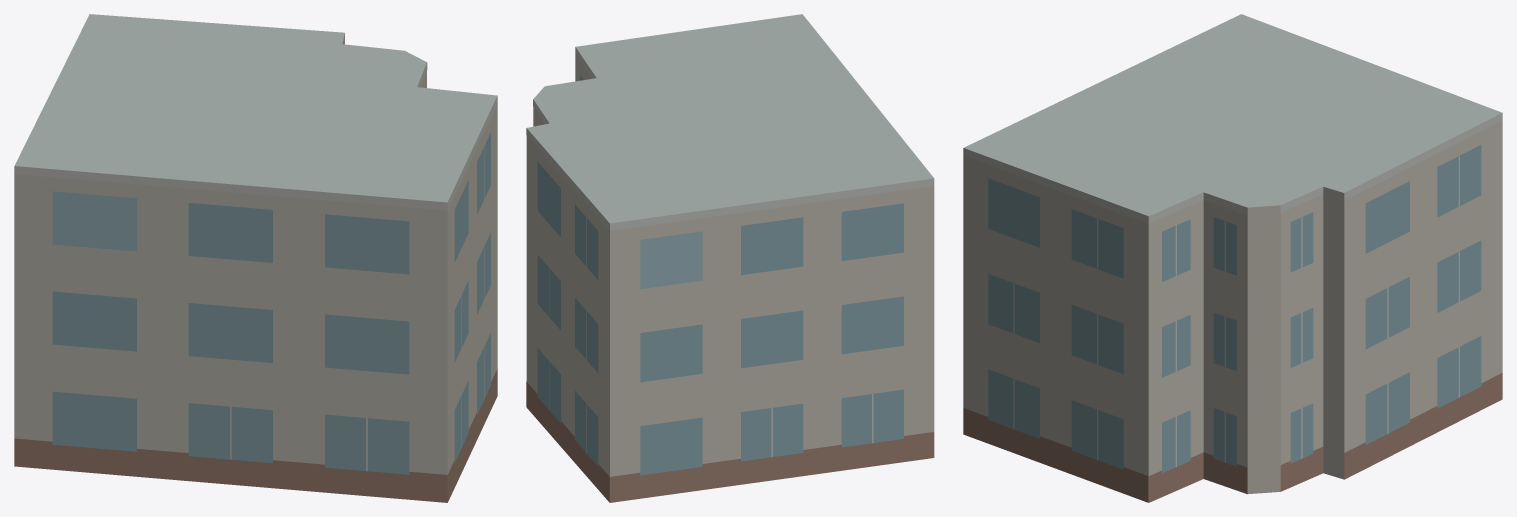
File: survey-upis-32575915.glb
3 renders of one model, left to right at view 1: azimuth 30°, elevation 25°; view 2: azimuth 150°, elevation 25°; view 3: azimuth 270°, elevation 25°, orthographic. The views are drawn at different scales.
Visible parts, largest first — view 1: survey-upis-32575915.tmp; view 2: survey-upis-32575915.tmp; view 3: survey-upis-32575915.tmp.
Part boxes in pixels (x1,y1,x2,y2): survey-upis-32575915.tmp: [14, 14, 497, 502]; survey-upis-32575915.tmp: [526, 14, 934, 502]; survey-upis-32575915.tmp: [963, 14, 1502, 502].
Size of the model in its own units: 13.86 by 9.15 by 15.61.
